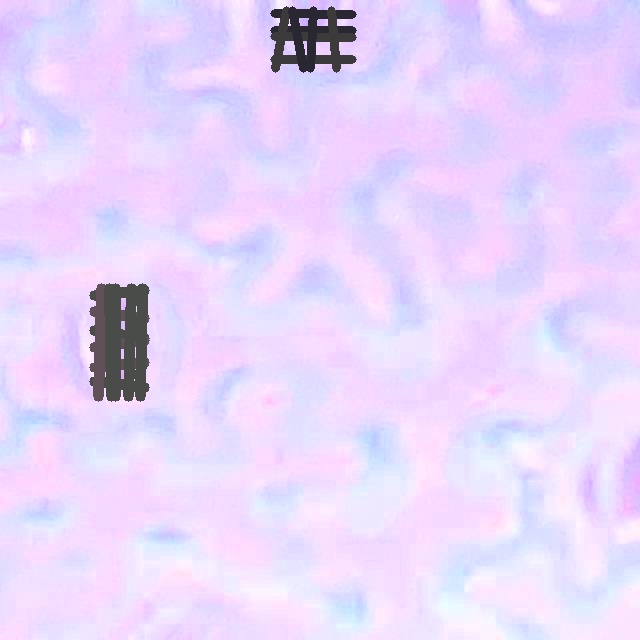open: (89, 283, 149, 400), (271, 7, 356, 72)
